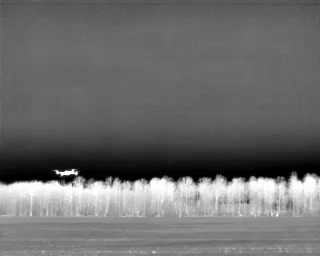DRONE: (50, 164, 82, 179)
